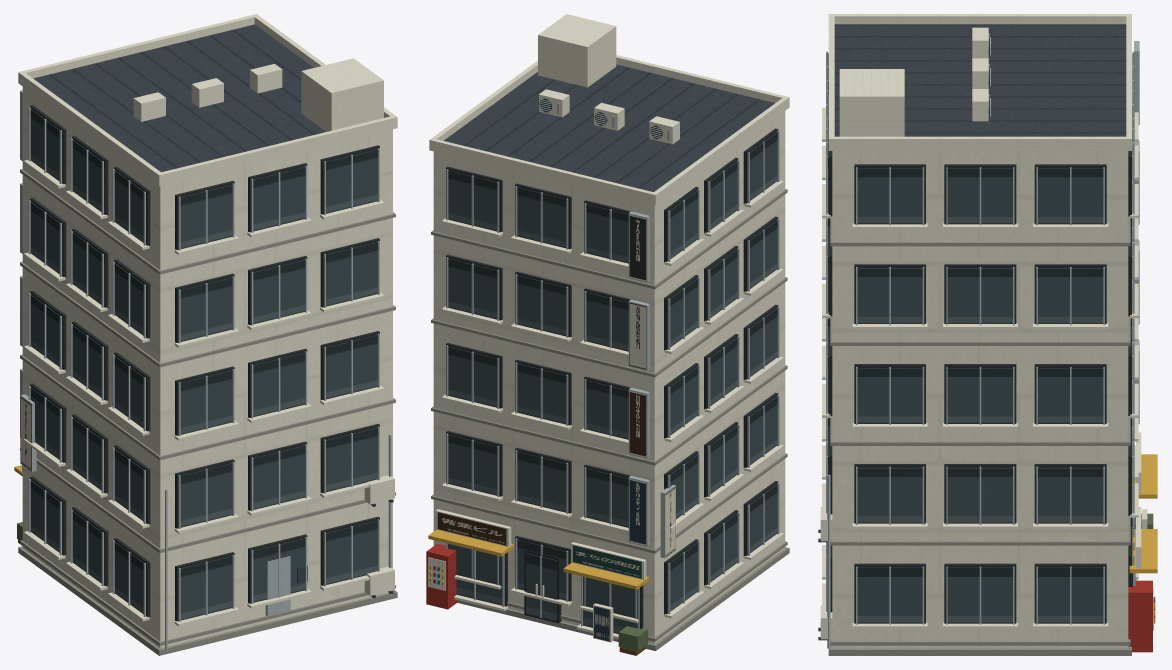
Rendered from shop_007.obj.
3 views of the same model, side by side, from view 1: azimuth 30°, elevation 25°; view 2: azimuth 150°, elevation 25°; view 3: azimuth 270°, elevation 25° (orthographic). The views are drawn at different scales.
Visible parts, largest first — view 1: shop_007; view 2: shop_007; view 3: shop_007.
Boxes of the visible parts, x1=… form: shop_007: x1=14, y1=14, x2=397, y2=655; shop_007: x1=426, y1=14, x2=789, y2=655; shop_007: x1=818, y1=14, x2=1157, y2=655.
Bounding box in the file's own units: 8.57 × 16.95 × 9.4.
1 material, 1 textured.
